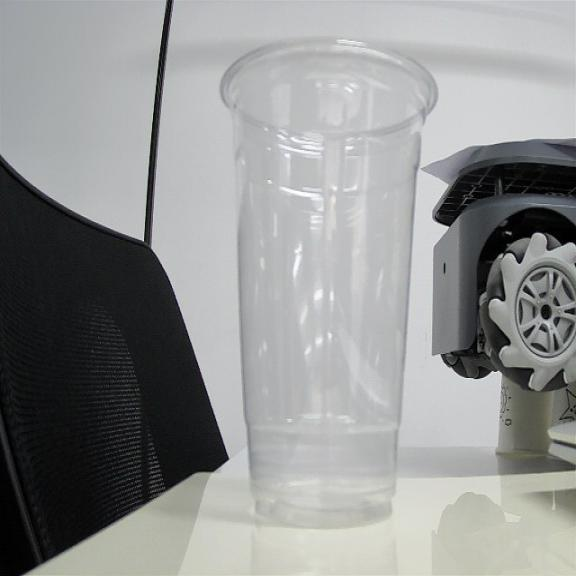Plastik: (220, 40, 436, 526), (222, 44, 436, 526)
